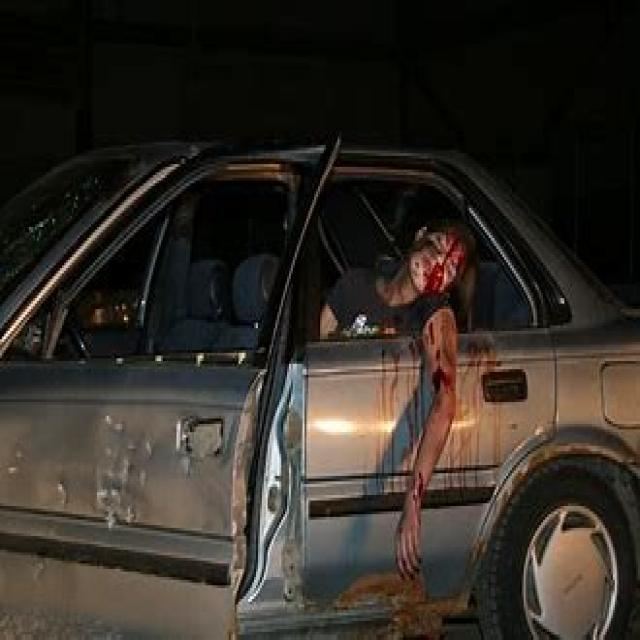Accident: (70, 101, 640, 622)
